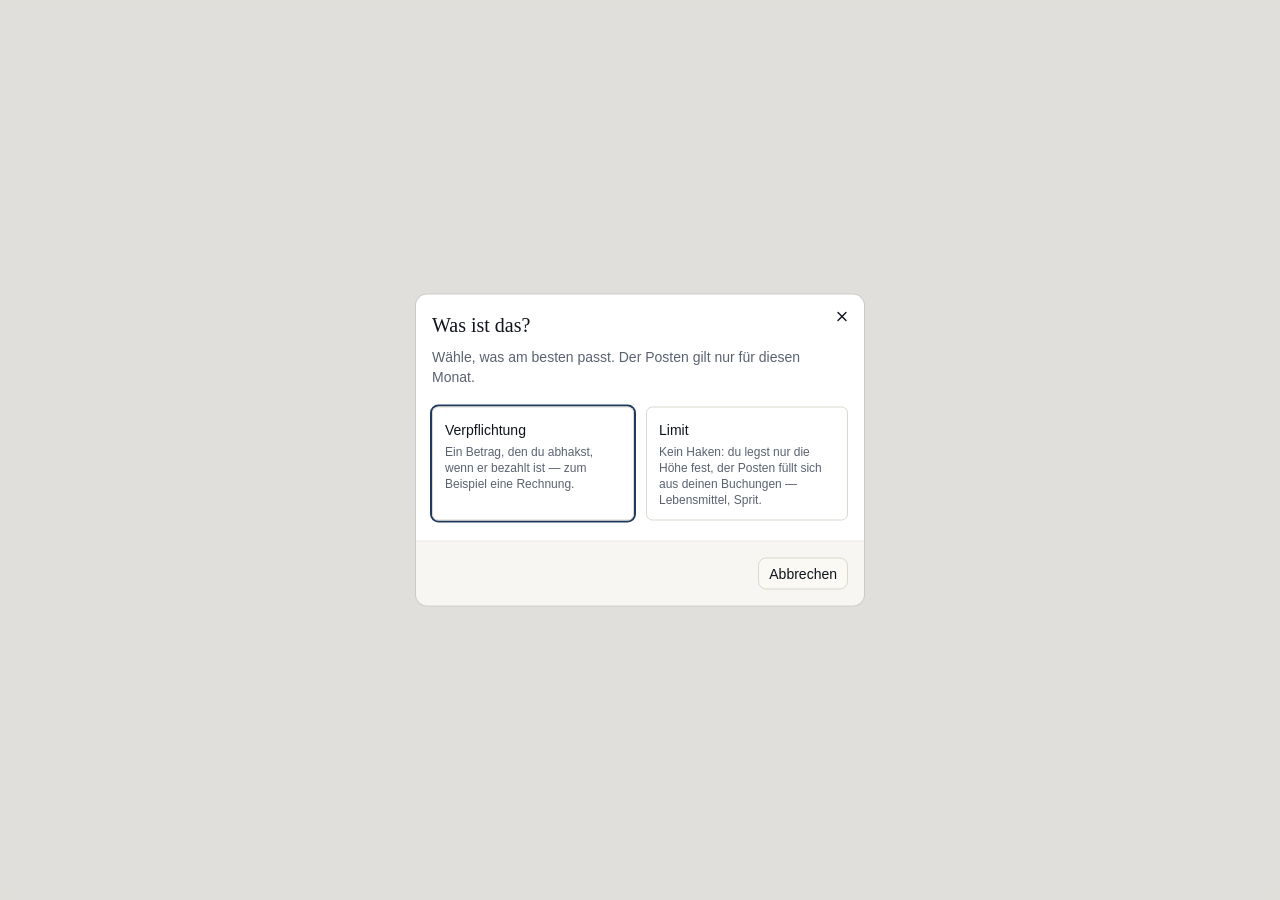
Test case: PositionDialog › stays open, shows the error box and keeps the input when saving fails
This screenshot has width=1280, height=900.
Click the button "Verpflichtung" at (533, 464), box x1=432 y1=406 x2=634 y2=520
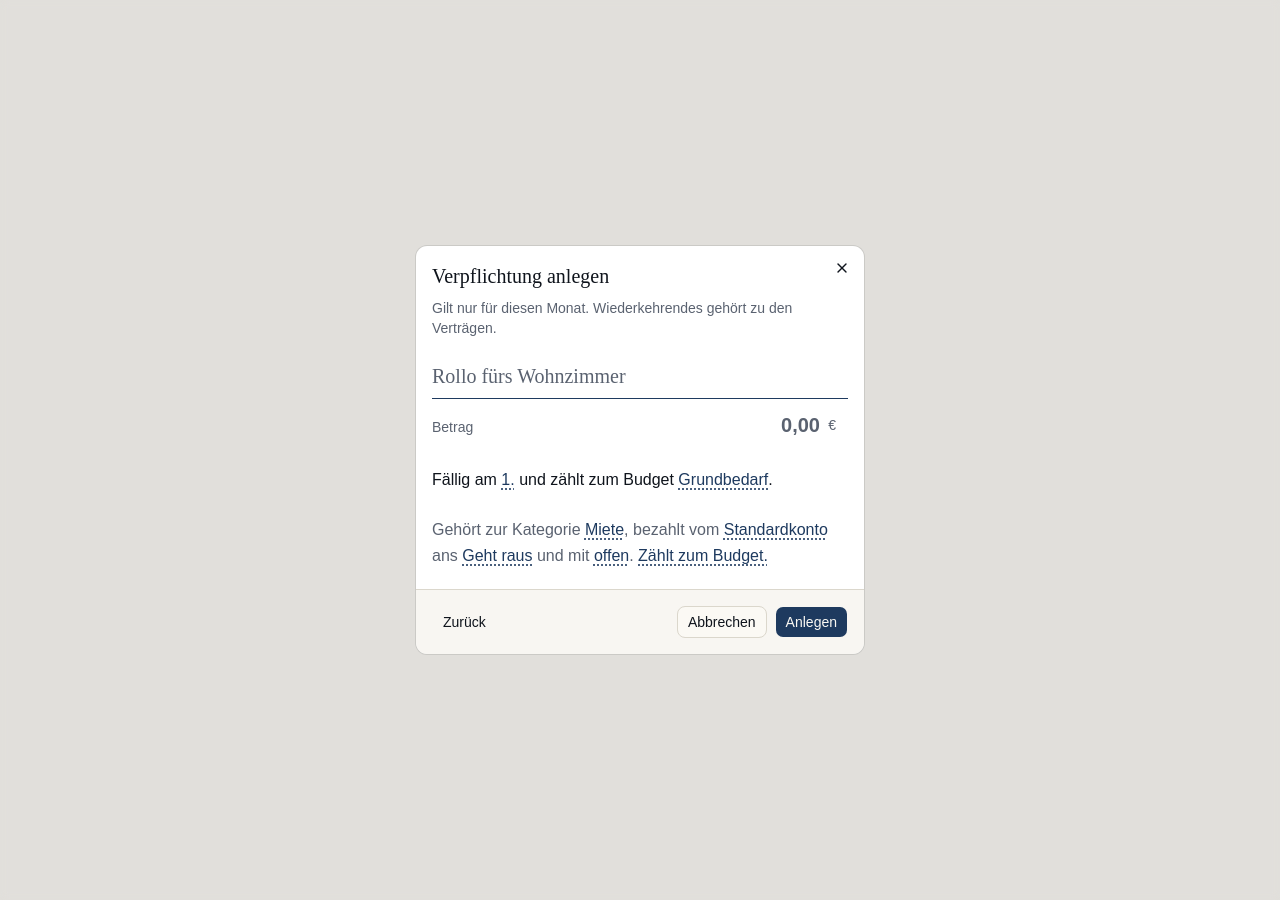
Type "Miete" into the field named "Bezeichnung" at (640, 378), box x1=432 y1=358 x2=848 y2=399
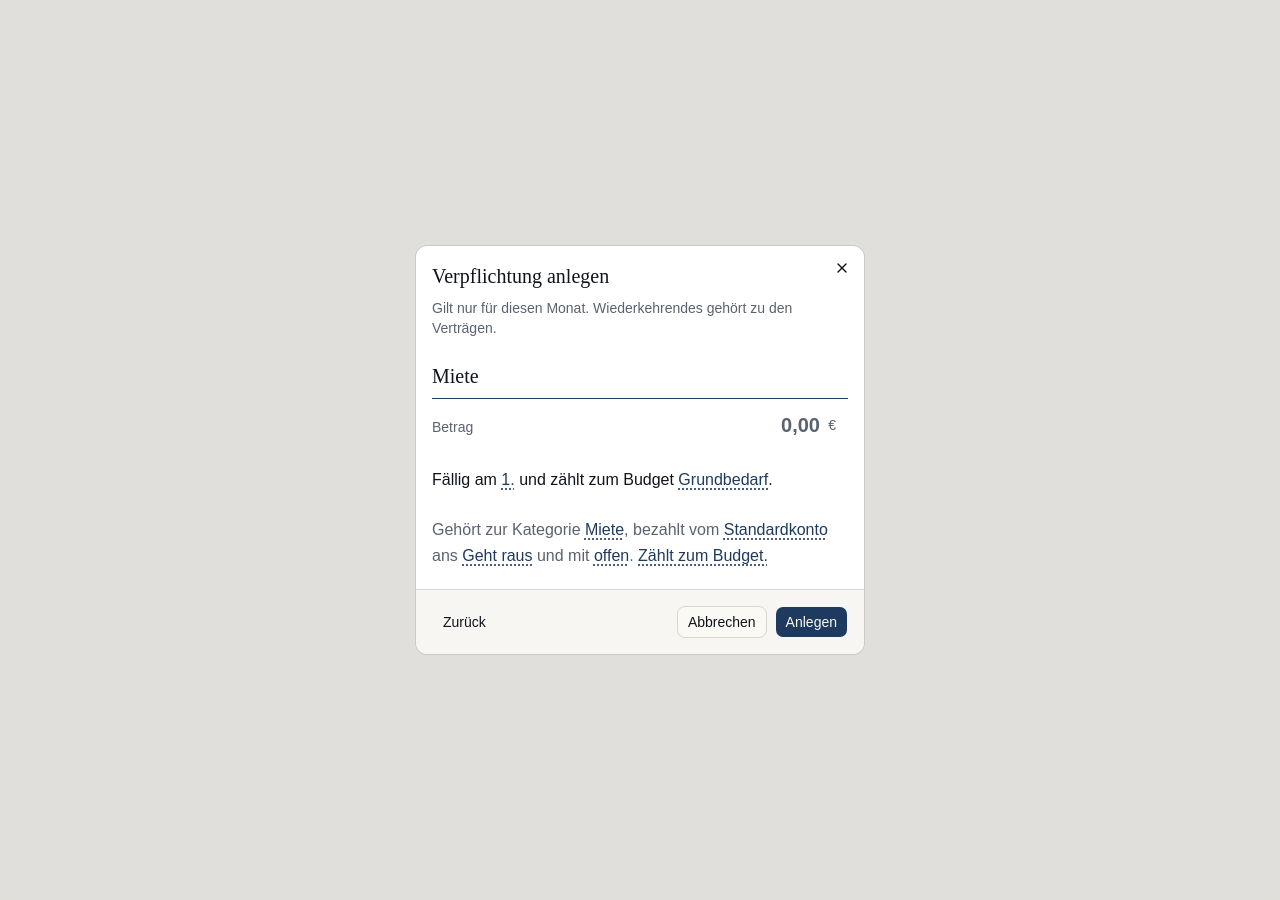
Type "500" into the field labelled "Betrag" at (667, 425), box x1=485 y1=407 x2=848 y2=443
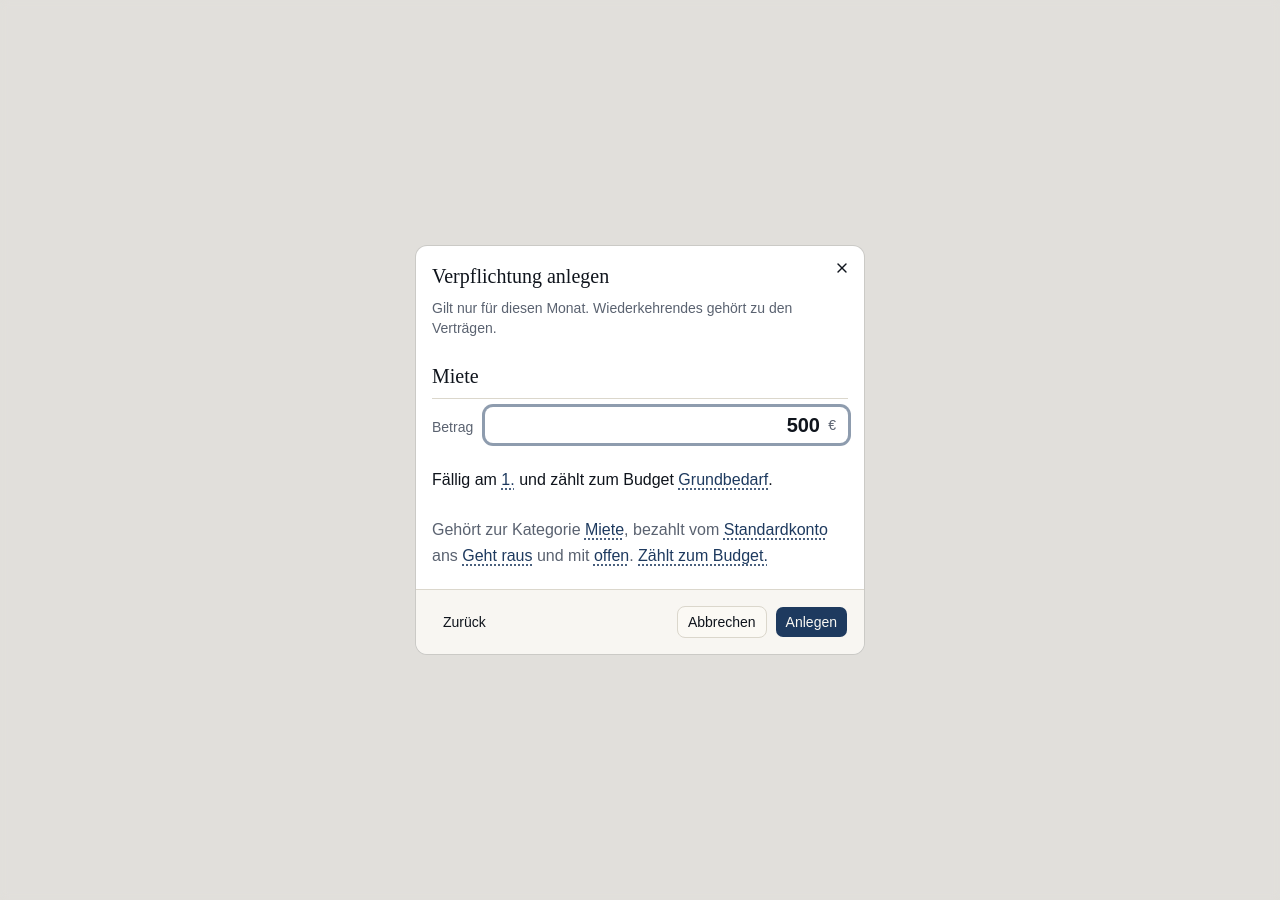
Click the button "Anlegen" at (811, 622), box x1=775 y1=606 x2=848 y2=638
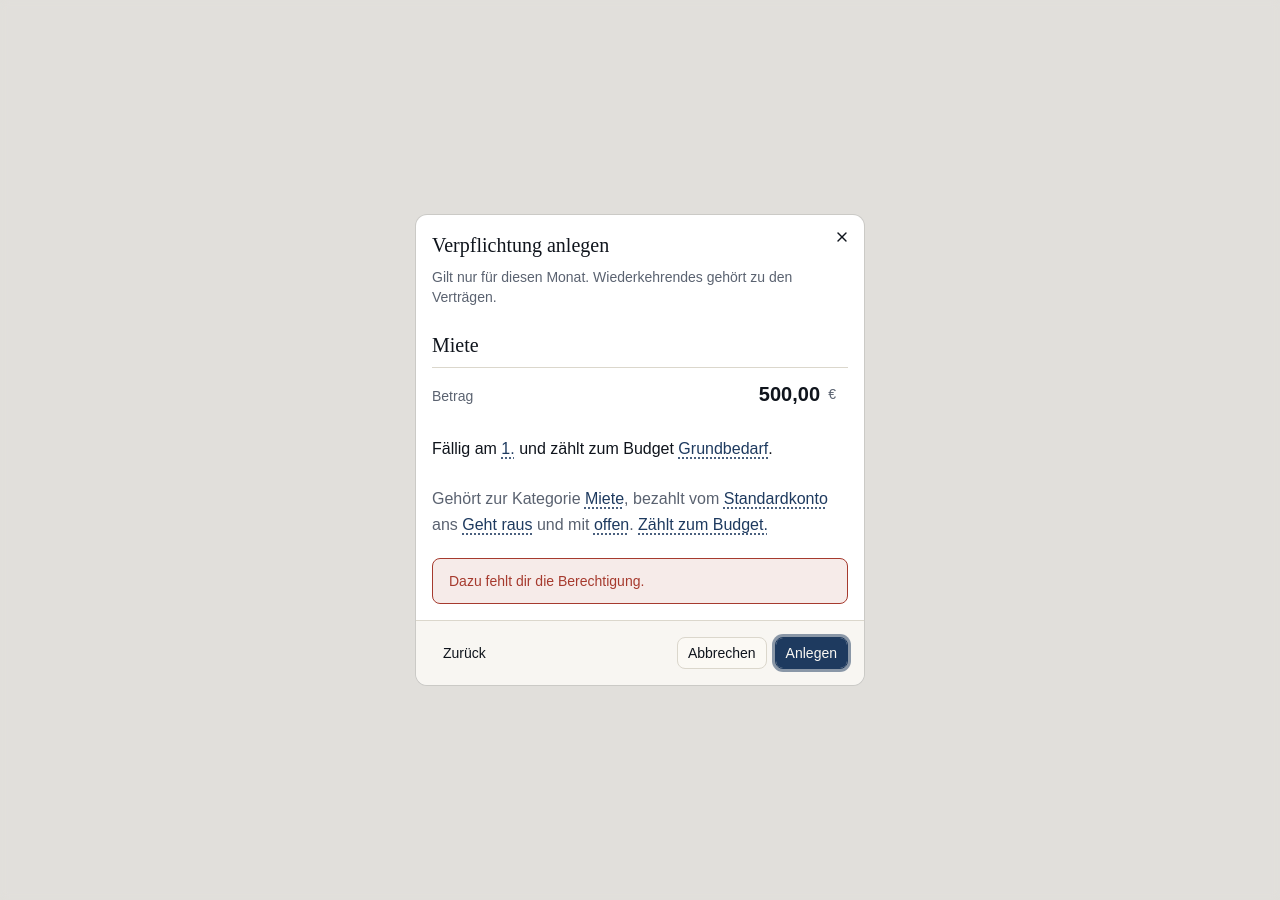
Check: the dialog is shown, box x1=416 y1=215 x2=864 y2=685
Check: the message reads "Dazu fehlt dir die Berechtigung.", box x1=449 y1=573 x2=644 y2=589
